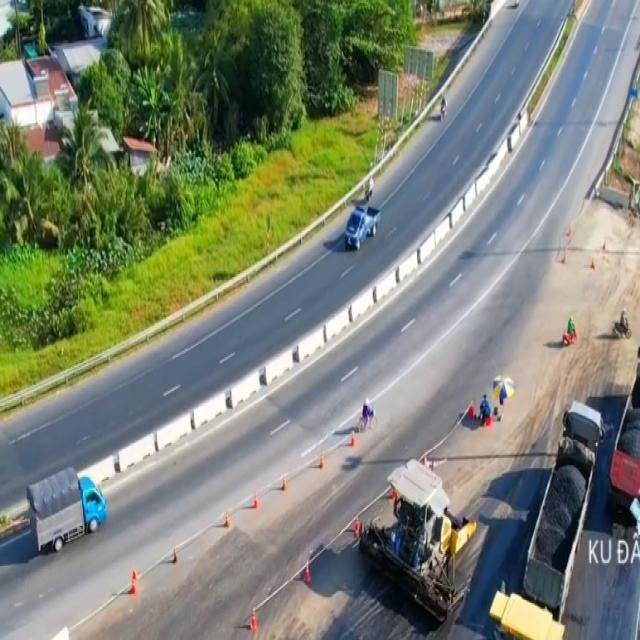motorbike: (612, 307, 630, 340), (564, 321, 578, 346)
truck: (29, 469, 108, 550), (344, 201, 381, 254)
